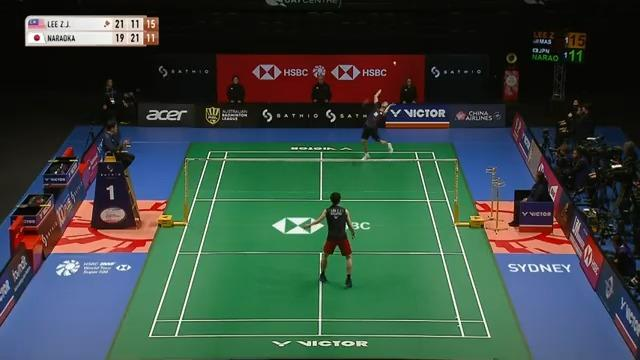Shuttlecock: (392, 60, 402, 68)
